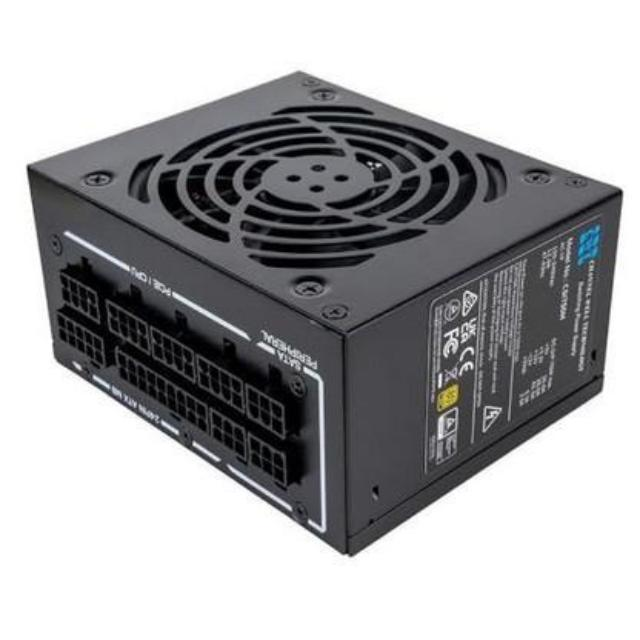PSU: (19, 59, 634, 566)
